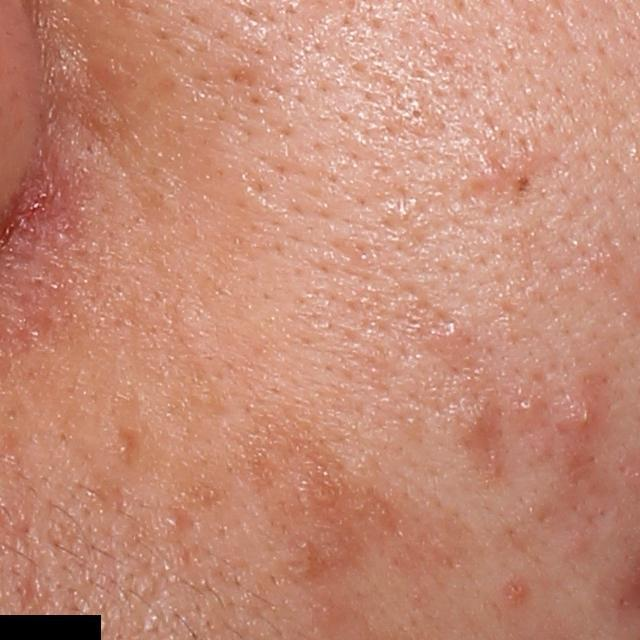comedo: (159, 508, 189, 532), (113, 427, 135, 458)
papule: (557, 391, 607, 449), (450, 395, 497, 451), (504, 577, 530, 602)
